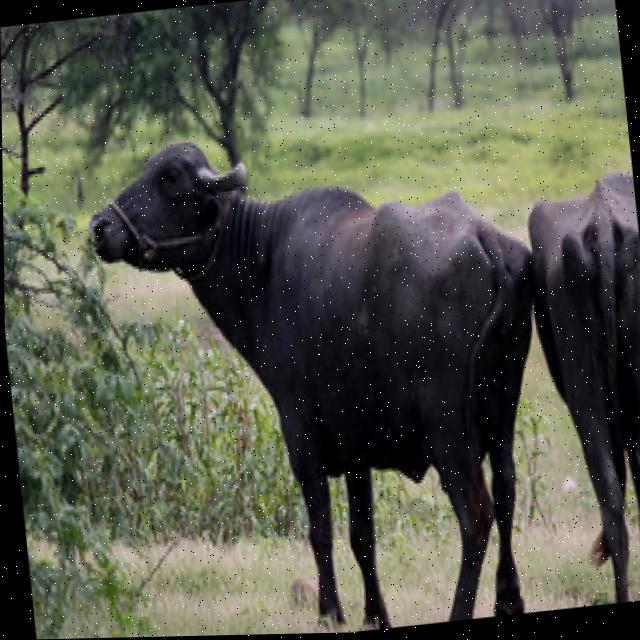Buffalo: (75, 108, 566, 638)
